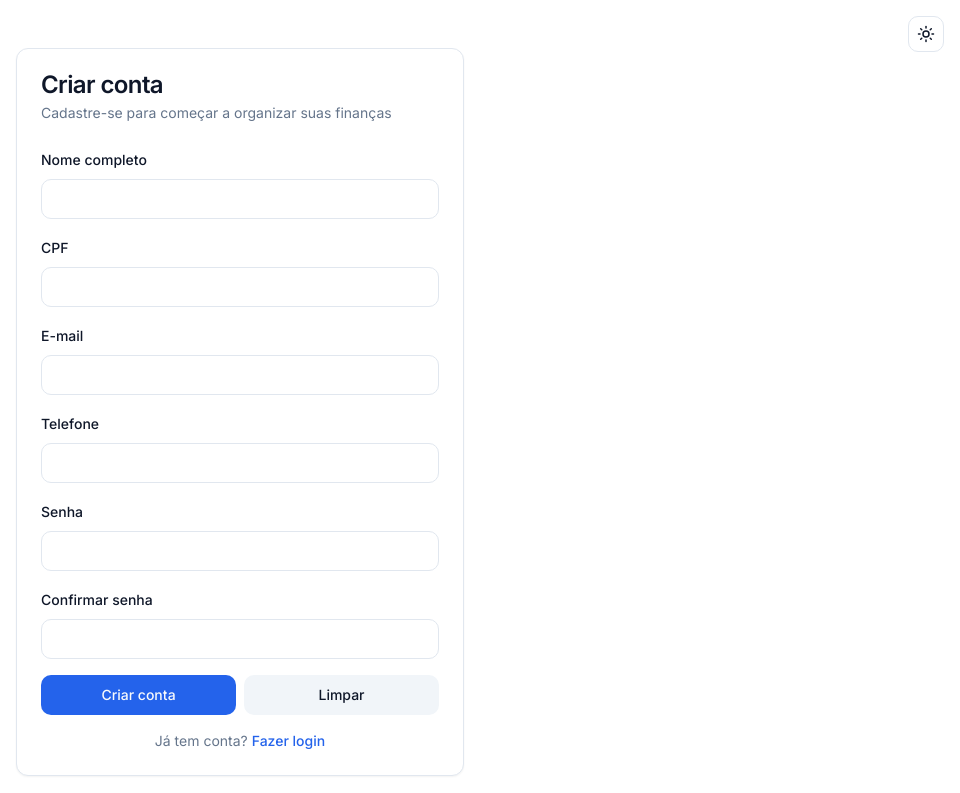
Test case: RegisterPage (AC-007) › limpa o formulário com o botão Limpar
Type "Ana Souza" into the field labelled "Nome completo".
click(240, 199); type("Ana Souza")  # box left=41, top=179, right=439, bottom=219
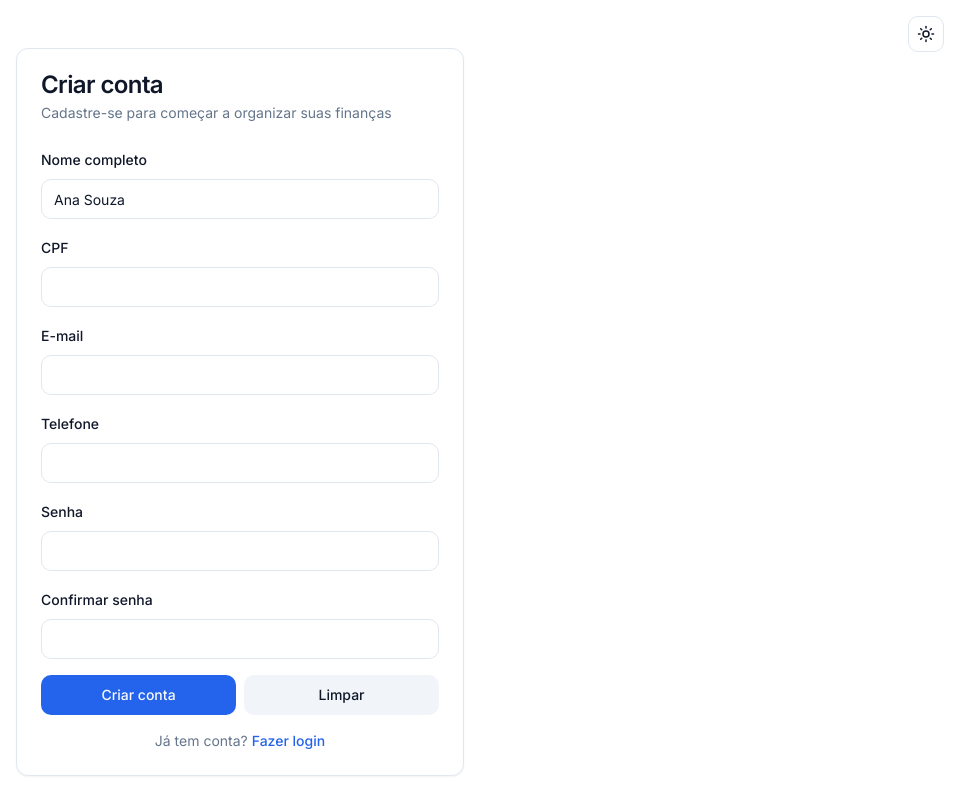
Type "ana@financas.dev" into the field labelled "E-mail".
click(240, 375); type("ana@financas.dev")  # box left=41, top=355, right=439, bottom=395
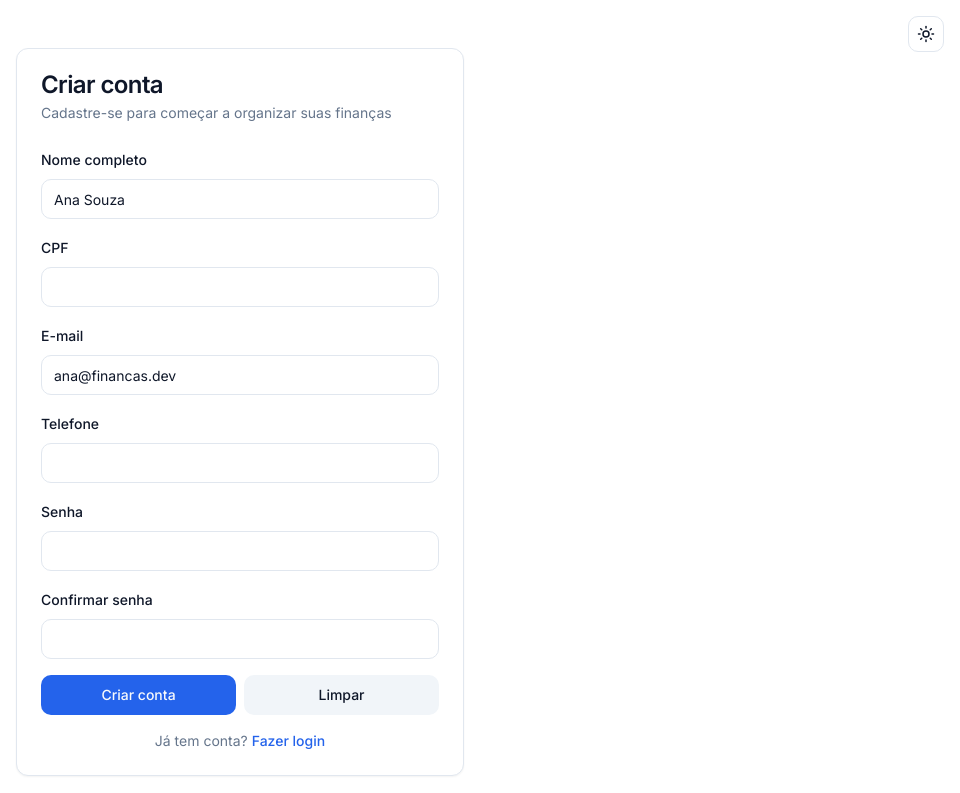
Click the button "Limpar".
click(342, 695)  # box left=244, top=675, right=439, bottom=715
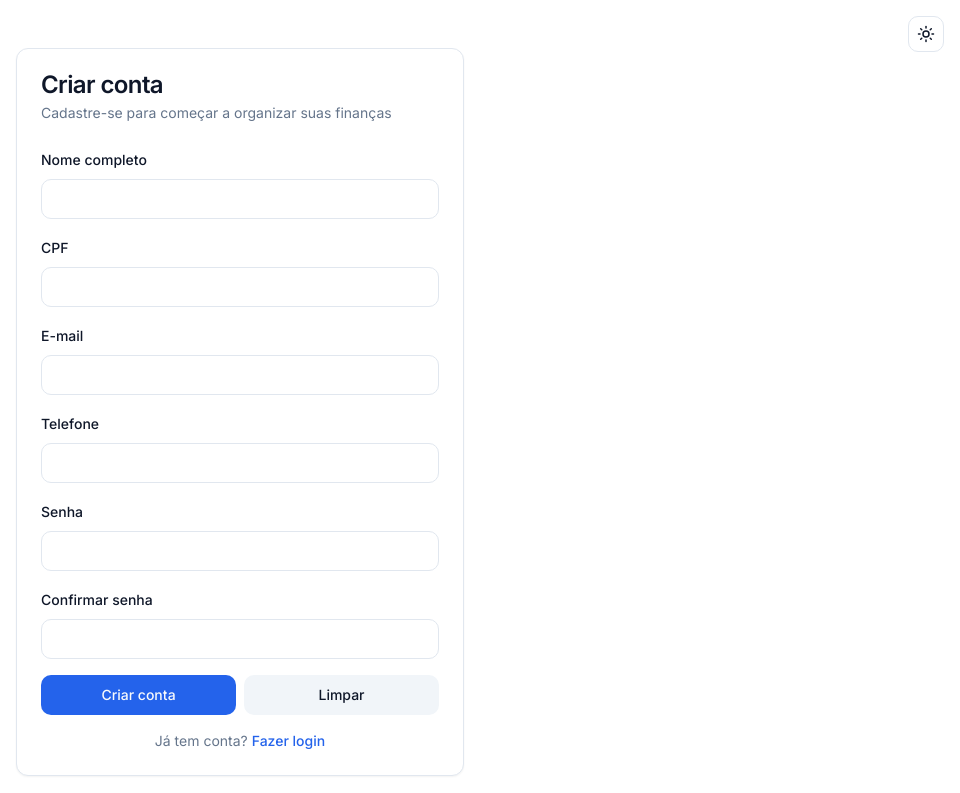
Expected: the field labelled "Nome completo" is empty, left=41, top=179, right=439, bottom=219
Expected: the field labelled "E-mail" is empty, left=41, top=355, right=439, bottom=395
